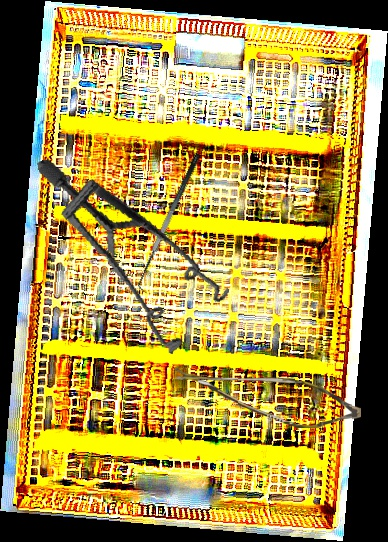Micro Scissor: (171, 368, 362, 429)
Spatula Surgical: (129, 152, 213, 294)
Speculum: (36, 128, 240, 373)
